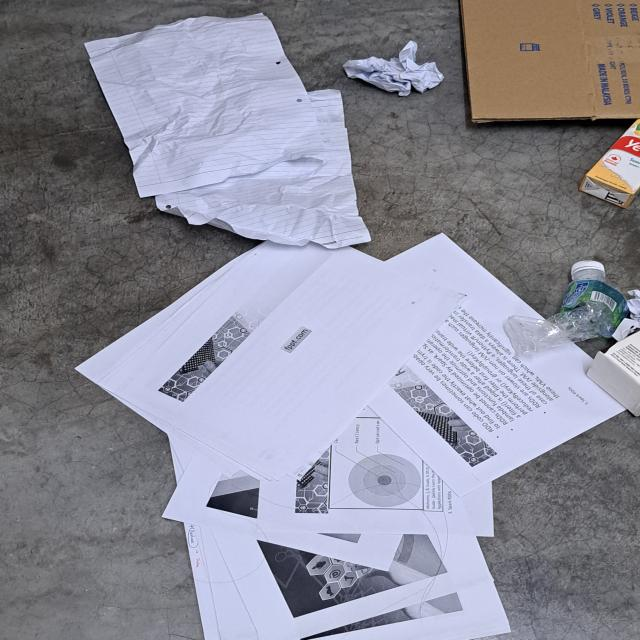cardboard: (460, 0, 640, 125)
drink carton: (579, 117, 640, 210)
paper: (74, 227, 622, 640), (78, 13, 371, 245), (347, 42, 445, 98)
plastic bottle: (501, 272, 626, 356)
plastic bottle cap: (572, 260, 606, 277)
